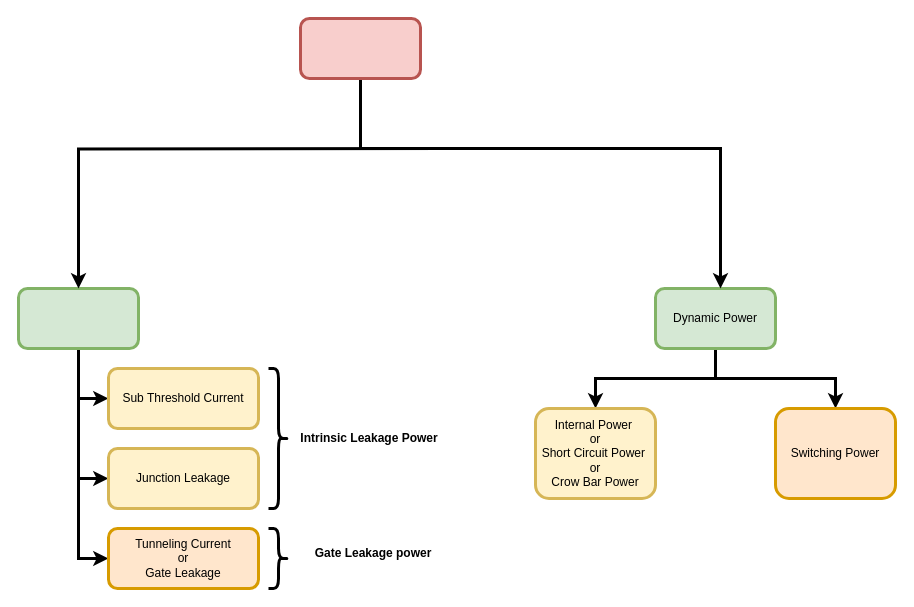
The diagram is 914 pixels wide and 607 high, and some of its shapes have lost their labels. The shapes that lost their labels are listed below. From the top down, each one's box as (x1, y1, x2, y2) in pixels, then its label:
(298, 16, 422, 80): Total Power
(16, 286, 140, 350): Static Power or Leakage Power
